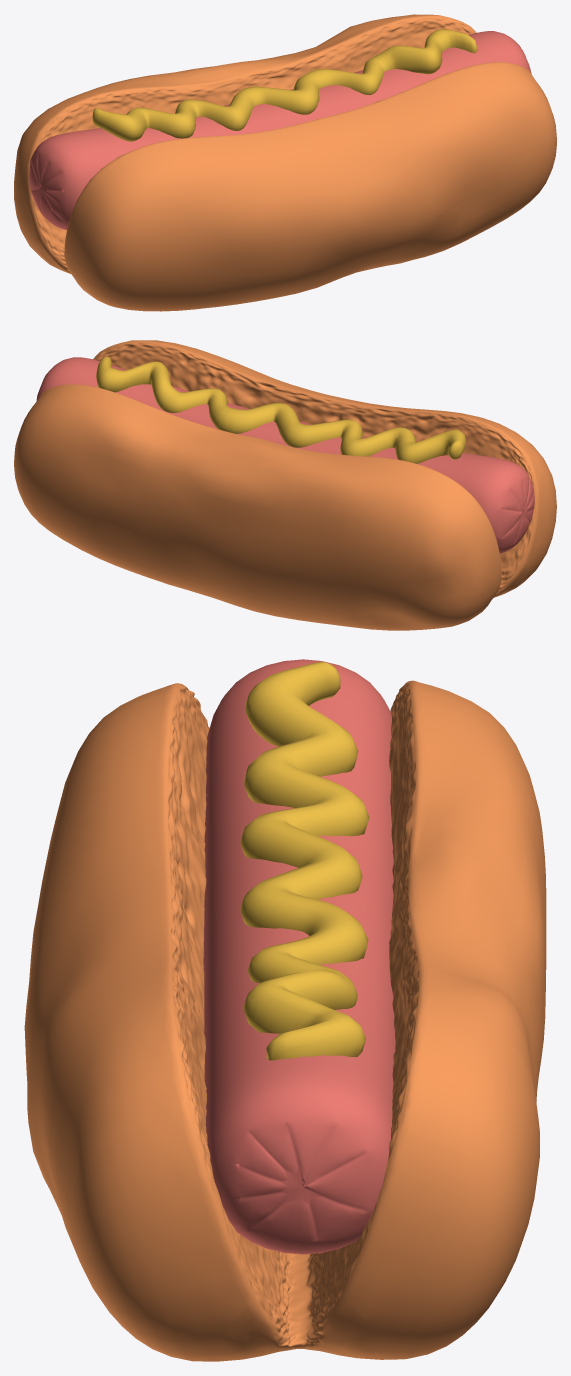
Rendered from sosisli.fbx.
3 views of the same model, one above another, from view 1: azimuth 30°, elevation 25°; view 2: azimuth 150°, elevation 25°; view 3: azimuth 270°, elevation 25° (orthographic). The views are drawn at different scales.
Parts seen in each view (by area): view 1: sosisli; view 2: sosisli; view 3: sosisli.
Part boxes in pixels (box(x1,y1,x2,y2)): sosisli: box(14, 14, 556, 311); sosisli: box(14, 340, 556, 630); sosisli: box(24, 659, 546, 1361).
Bounding box in the file's own units: 65.34 × 26.17 × 30.95.
